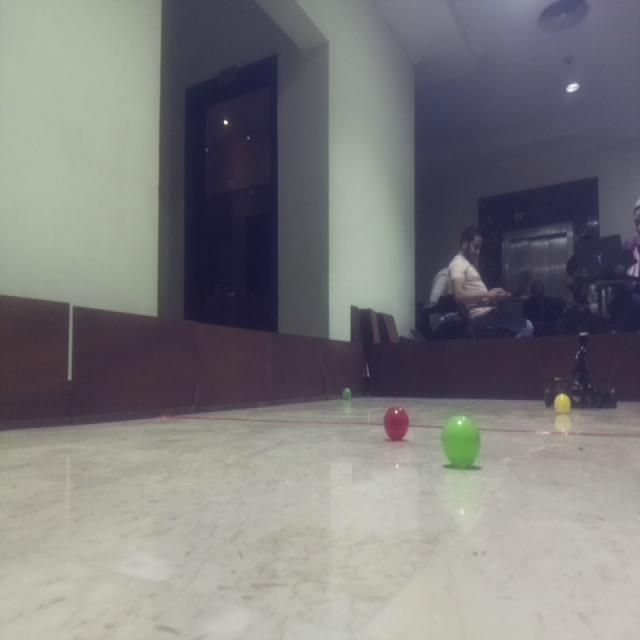ball: (553, 390, 573, 418), (338, 381, 358, 404)
